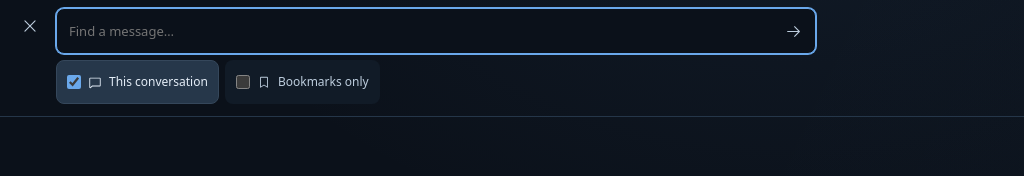
Test: search explains a failure and allows retry from the same query
The image size is (1024, 176).
Type "retry" into the search field named "Search transcript" at x=414, y=31, box x1=57 y1=9 x2=771 y2=53
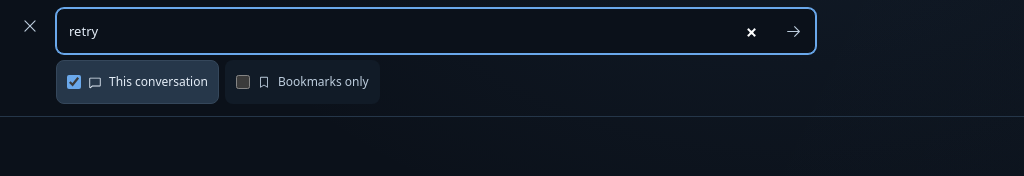
Click the button named "Search messages" at x=793, y=31, box x1=771 y1=9 x2=815 y2=53
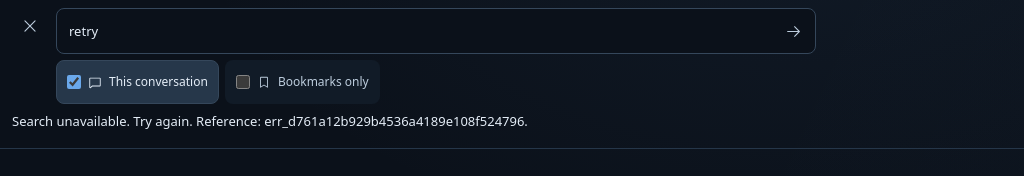
Result: the message shows "Search unavailable" at x1=12 y1=112 x2=528 y2=130
Click the button named "Search messages" at x=793, y=31, box x1=771 y1=9 x2=815 y2=53
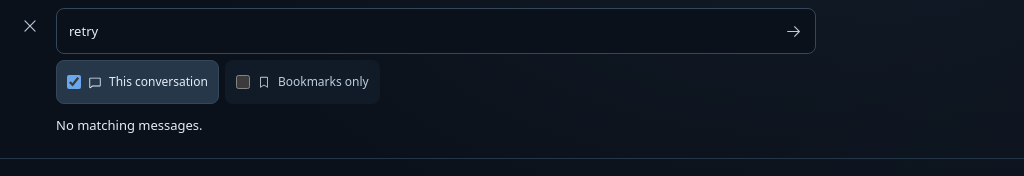
Result: the text "No matching messages." is shown at x1=56 y1=116 x2=203 y2=134
